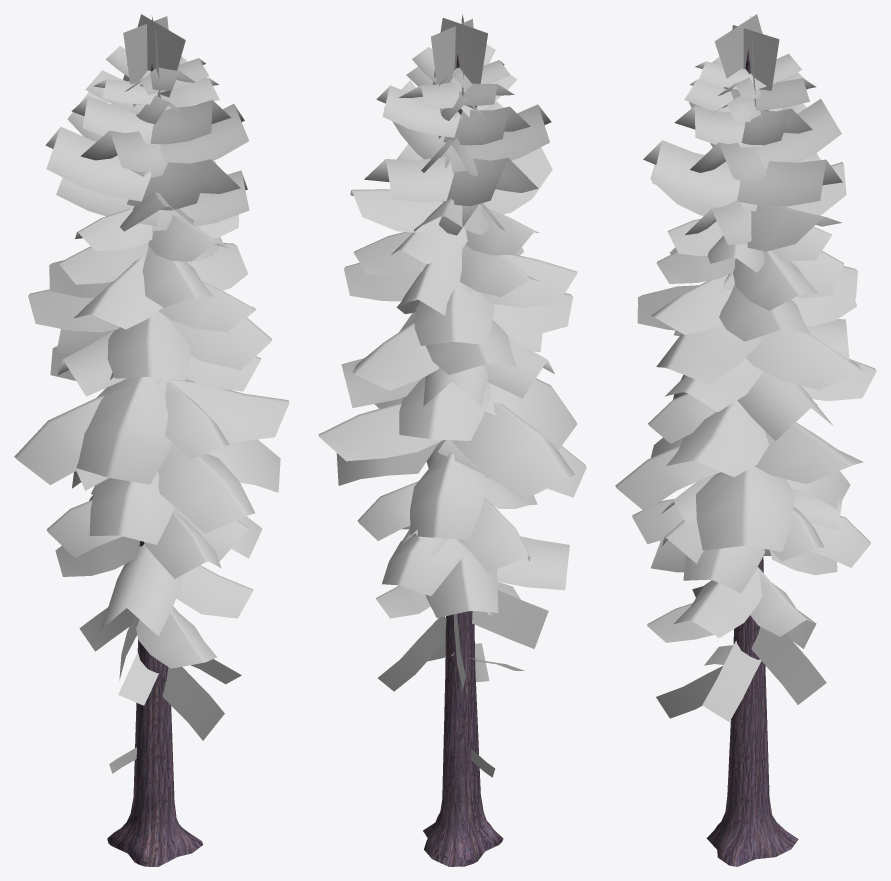
Rendered from tree.fbx.
3 views of the same model, side by side, from view 1: azimuth 30°, elevation 25°; view 2: azimuth 150°, elevation 25°; view 3: azimuth 270°, elevation 25° (orthographic).
Parts seen in each view (by area): view 1: Cylinder04, Plane277, Plane274, Plane263, Plane296, Plane278, Plane452, Plane374, Plane273, Plane299, Plane372, Plane300 (+39 smaller); view 2: Cylinder04, Plane273, Plane272, Plane276, Plane280, Plane303, Plane295, Plane262, Plane453, Plane277, Plane373, Plane267 (+36 smaller); view 3: Cylinder04, Plane271, Plane278, Plane295, Plane372, Plane299, Plane280, Plane373, Plane279, Plane274, Plane450, Plane306 (+44 smaller).
Part boxes in pixels (x1,y1,x2,y2): Cylinder04: [107, 63, 202, 866]; Plane277: [76, 377, 172, 484]; Plane274: [158, 442, 254, 533]; Plane263: [89, 471, 174, 544]; Plane296: [107, 311, 191, 380]; Plane278: [168, 379, 289, 441]; Plane452: [100, 542, 182, 636]; Plane374: [45, 127, 151, 201]; Plane273: [14, 394, 105, 485]; Plane299: [168, 317, 272, 369]; Plane372: [127, 159, 240, 210]; Plane300: [73, 257, 162, 329]; Cylinder04: [423, 54, 503, 866]; Plane273: [451, 403, 574, 500]; Plane272: [410, 453, 486, 539]; Plane276: [399, 376, 491, 440]; Plane280: [318, 402, 443, 461]; Plane303: [414, 286, 494, 345]; Plane295: [352, 322, 439, 390]; Plane262: [382, 536, 466, 595]; Plane453: [426, 546, 498, 617]; Plane277: [485, 378, 577, 450]; Plane373: [364, 156, 453, 202]; Plane267: [457, 498, 530, 572]; Cylinder04: [706, 49, 798, 866]; Plane271: [696, 466, 794, 551]; Plane278: [666, 400, 769, 477]; Plane295: [745, 329, 862, 390]; Plane372: [643, 140, 757, 211]; Plane299: [656, 272, 762, 384]; Plane280: [754, 422, 863, 484]; Plane373: [737, 159, 842, 206]; Plane279: [737, 371, 833, 440]; Plane274: [615, 445, 720, 511]; Plane450: [673, 569, 762, 637]; Plane306: [733, 250, 818, 310].
Size of the model in its own units: 707 by 2277 by 652.
